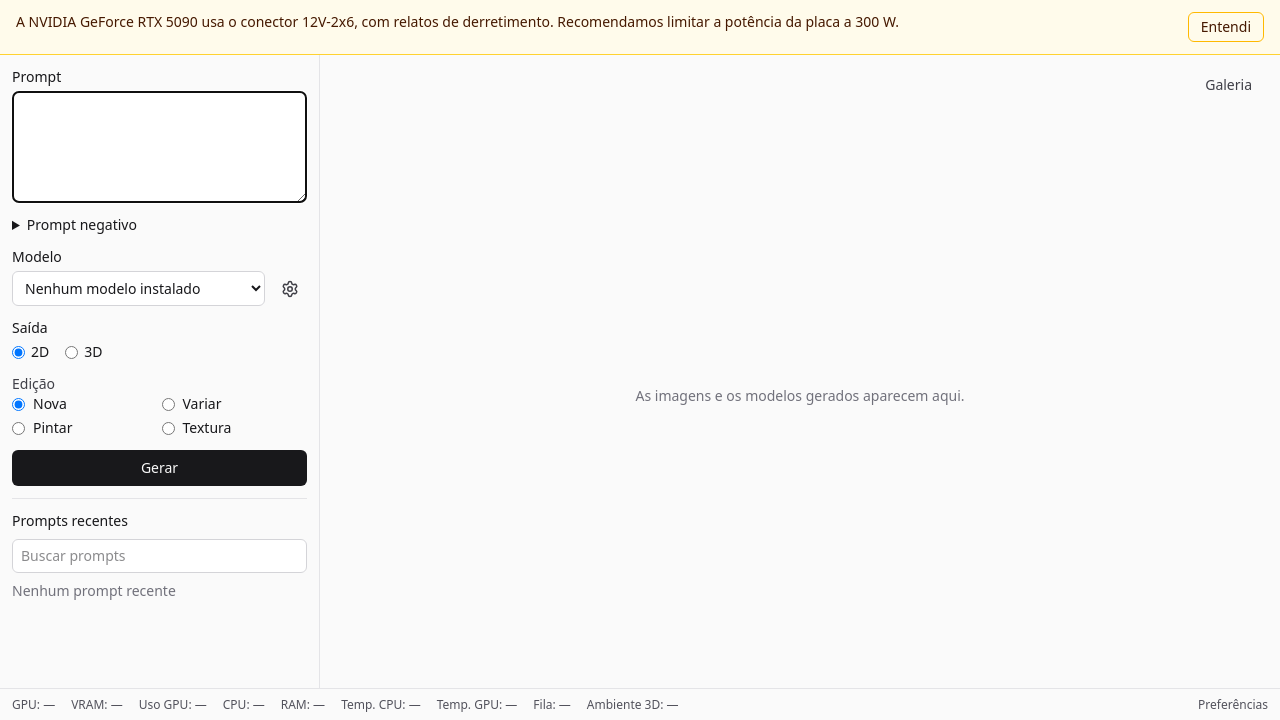
Test: aviso de conector na abertura › mostra a placa e some ao dispensar
Check: the message shows "NVIDIA GeForce RTX 5090", box [16, 12, 899, 31]
Check: the message shows "300 W", box [16, 12, 899, 31]
Click the button "Entendi".
click(1226, 27)  # box [1188, 12, 1264, 42]
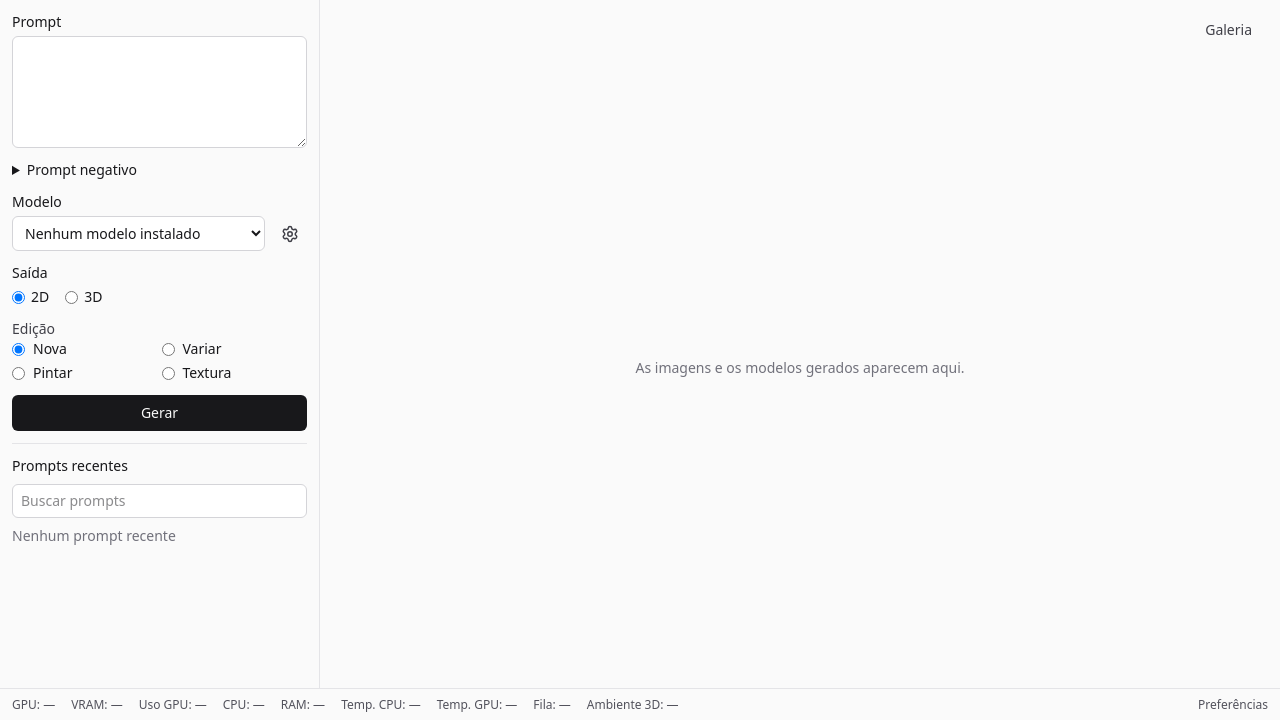
Check: the message is gone
